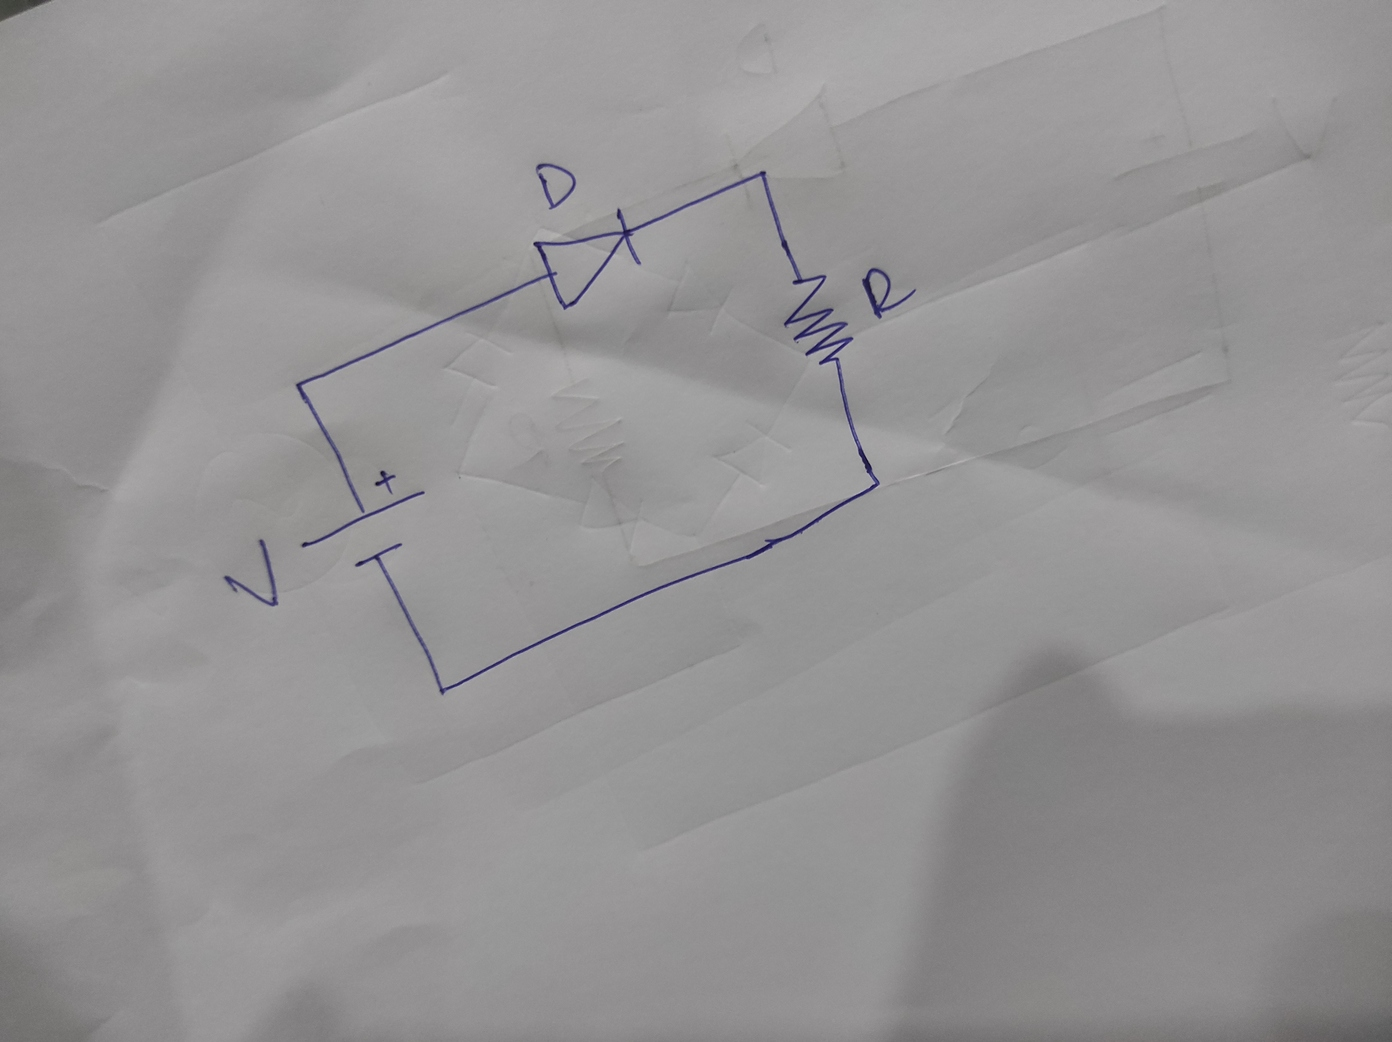diode: (532, 207, 647, 314)
junction: (430, 675, 457, 703), (287, 372, 315, 398), (749, 163, 776, 188), (860, 471, 886, 496)
resistor: (777, 273, 859, 368)
text: (219, 537, 282, 611), (858, 265, 918, 322), (534, 159, 577, 210)
voltage.dc: (294, 467, 427, 571)
